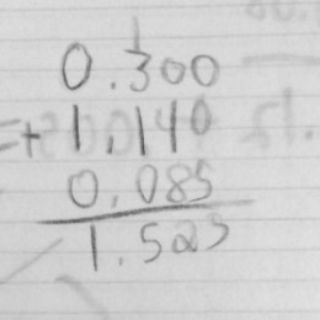.: (106, 77, 119, 93)
0: (59, 40, 95, 92), (67, 166, 103, 208), (190, 95, 214, 139)
1: (86, 221, 105, 273), (133, 102, 147, 159)
2: (170, 218, 200, 255)
3: (123, 45, 152, 93)
4: (153, 98, 183, 157)
5: (136, 221, 165, 264), (192, 158, 218, 202)
8: (166, 161, 190, 204)
